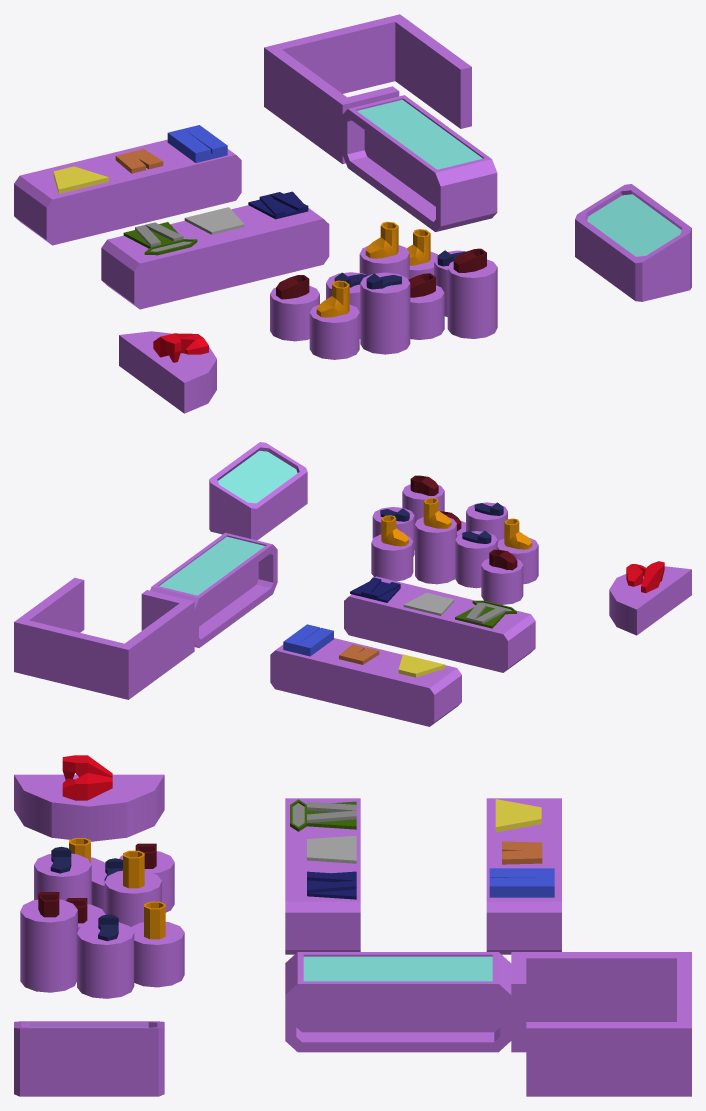
File: Revised_Clothing_Store_Platform.fbx
3 views of the same model, one above another, from view 1: azimuth 30°, elevation 25°; view 2: azimuth 150°, elevation 25°; view 3: azimuth 270°, elevation 25° (orthographic). The views are drawn at different scales.
Parts seen in each view (by area): view 1: Cube.036, Cube.037, Cube.038, Cube.039, Cube.032, Cylinder.013, Cylinder.005, Cylinder.007, Cylinder.003, Cylinder.011, Cylinder.006, Cube.099 (+11 smaller); view 2: Cube.036, Cube.038, Cube.039, Cube.037, Cube.032, Cylinder.013, Cylinder.010, Cylinder.011, Cylinder.012, Cylinder.004, Cylinder.005, Cube.099 (+13 smaller); view 3: Cube.036, Cube.037, Cube.032, Cylinder.013, Cube.038, Cube.039, Cylinder.007, Cylinder.008, Cylinder.012, Cylinder.010, Cylinder.005, Cube.099 (+11 smaller).
Part boxes in pixels (left/top/right/bottom): Cube.036: left=264, top=14, right=471, bottom=164; Cube.037: left=342, top=95, right=497, bottom=231; Cube.038: left=14, top=139, right=241, bottom=245; Cube.039: left=101, top=205, right=329, bottom=309; Cube.032: left=575, top=184, right=691, bottom=301; Cylinder.013: left=119, top=331, right=216, bottom=413; Cylinder.005: left=360, top=272, right=410, bottom=354; Cylinder.007: left=447, top=259, right=497, bottom=338; Cylinder.003: left=309, top=304, right=359, bottom=359; Cylinder.011: left=270, top=285, right=319, bottom=341; Cylinder.006: left=410, top=285, right=444, bottom=339; Cube.099: left=167, top=125, right=227, bottom=158; Cube.036: left=14, top=577, right=194, bottom=699; Cube.038: left=270, top=638, right=461, bottom=726; Cube.039: left=344, top=576, right=535, bottom=672; Cube.037: left=150, top=532, right=277, bottom=647; Cube.032: left=209, top=442, right=307, bottom=540; Cylinder.013: left=609, top=566, right=691, bottom=635; Cylinder.010: left=415, top=517, right=456, bottom=584; Cylinder.011: left=481, top=558, right=523, bottom=604; Cylinder.012: left=371, top=534, right=413, bottom=581; Cylinder.004: left=455, top=531, right=497, bottom=588; Cylinder.005: left=466, top=502, right=507, bottom=542; Cube.099: left=283, top=624, right=333, bottom=652; Cube.036: left=511, top=952, right=691, bottom=1096; Cube.037: left=285, top=952, right=511, bottom=1052; Cube.032: left=14, top=1021, right=164, bottom=1096; Cylinder.013: left=14, top=774, right=164, bottom=841; Cube.038: left=486, top=798, right=561, bottom=954; Cube.039: left=285, top=798, right=360, bottom=954; Cylinder.007: left=20, top=899, right=77, bottom=992; Cylinder.008: left=77, top=921, right=134, bottom=998; Cylinder.012: left=131, top=921, right=184, bottom=987; Cylinder.010: left=104, top=870, right=161, bottom=926; Cylinder.005: left=34, top=853, right=91, bottom=904; Cube.099: left=489, top=868, right=554, bottom=892.
Size of the model in its own units: 900 by 147 by 900.
